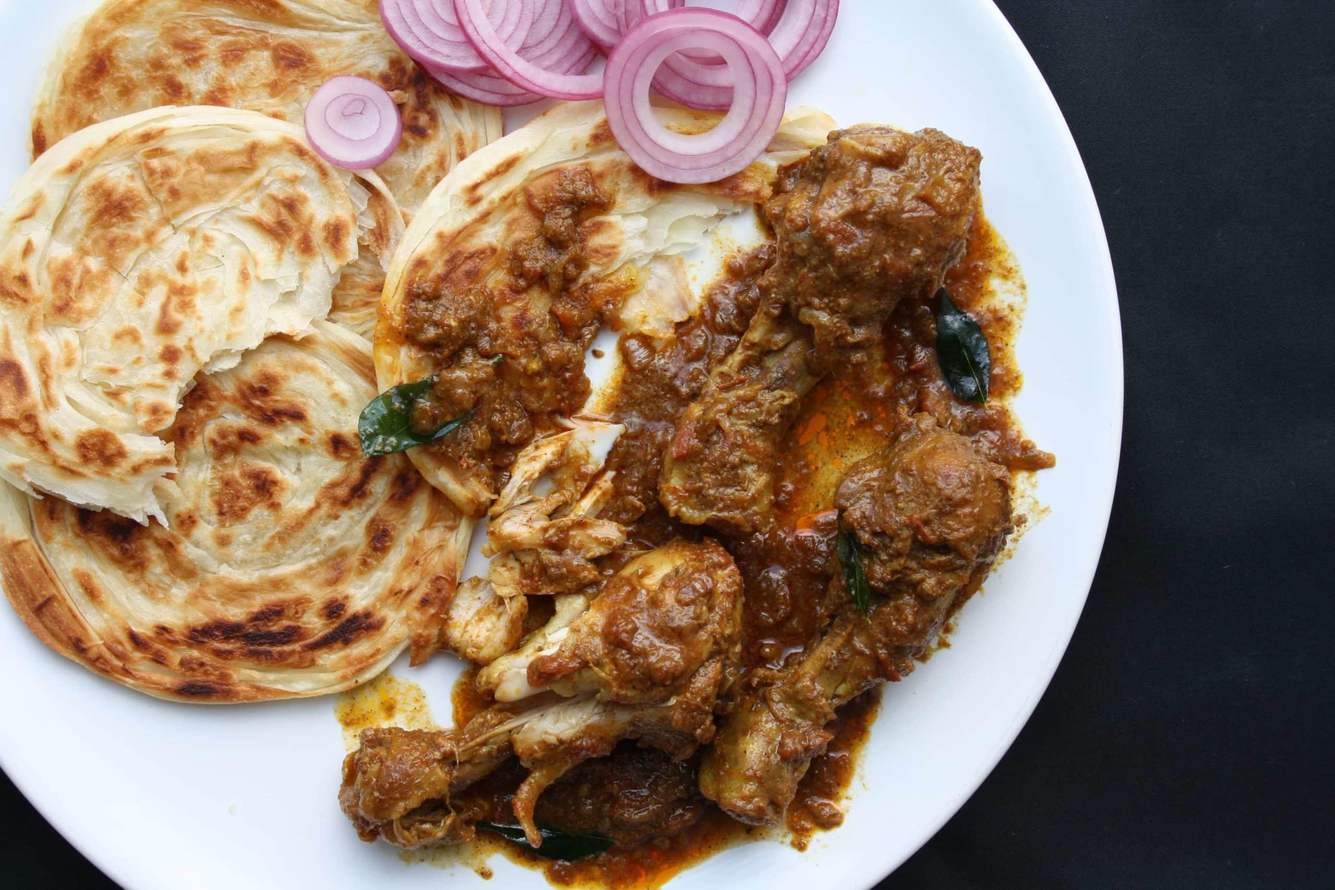chicken: (511, 160, 1004, 844)
roti: (18, 69, 420, 693)
